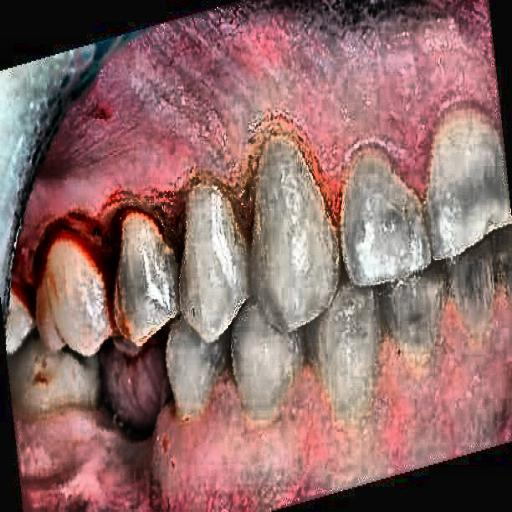Gingivitis: (22, 94, 295, 238)
